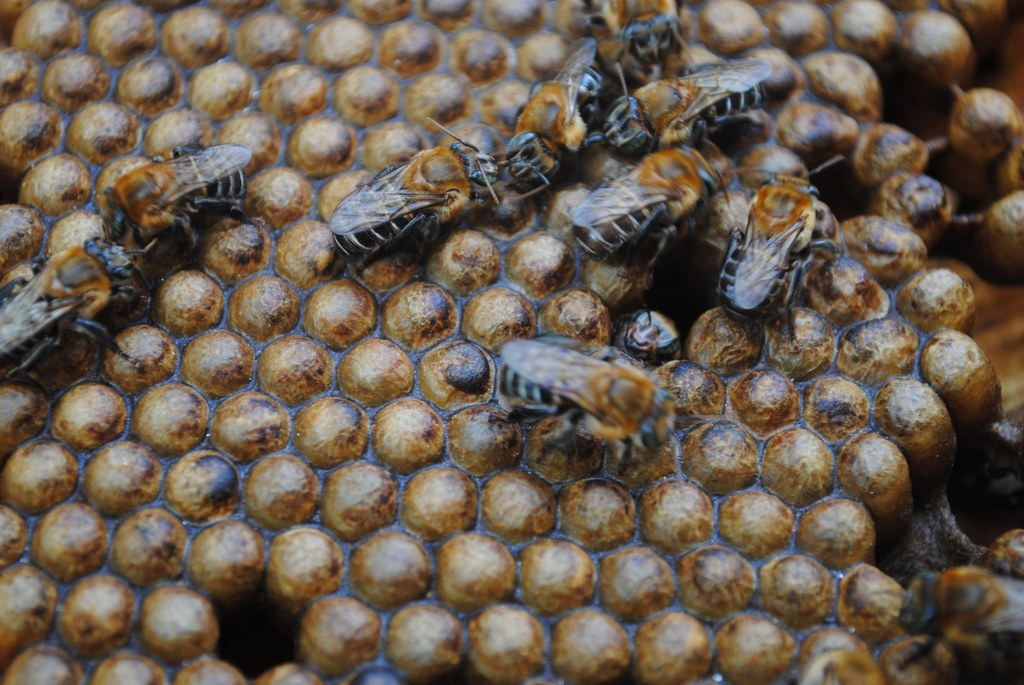bee: (0, 0, 1023, 684), (328, 116, 511, 288), (497, 323, 687, 488), (708, 150, 851, 347), (587, 38, 778, 164), (568, 133, 733, 278), (0, 224, 148, 374), (490, 33, 620, 187), (883, 553, 1023, 684), (99, 143, 253, 255), (577, 0, 705, 102)
insect: (0, 0, 1023, 677)
